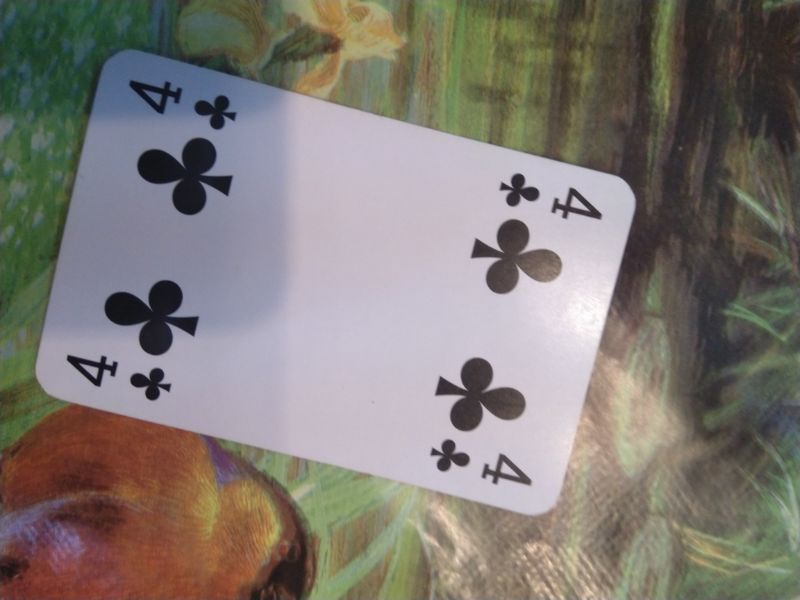4c: (123, 71, 243, 134), (494, 169, 606, 226), (425, 436, 535, 493), (62, 351, 177, 403)
